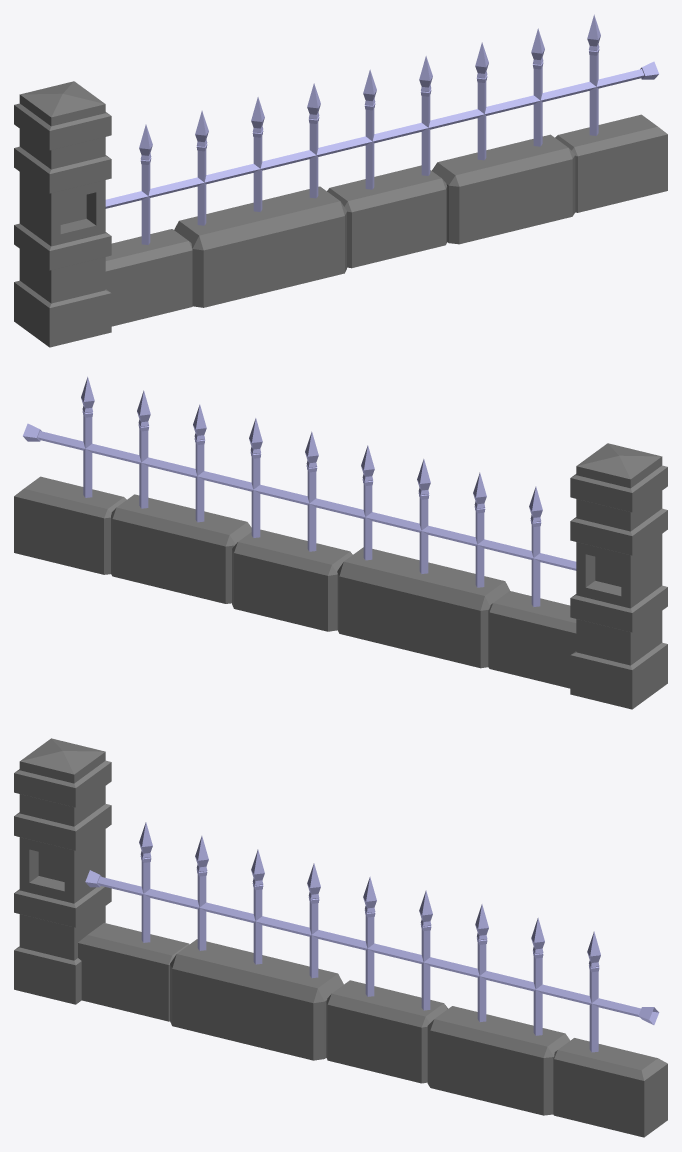
The model's file is SM_Fence_09.fbx.
The picture shows the model from 3 angles, top to bottom: view 1: azimuth 30°, elevation 25°; view 2: azimuth 150°, elevation 25°; view 3: azimuth 330°, elevation 25°; orthographic projection.
Parts seen in each view (by area): view 1: Object024; view 2: Object024; view 3: Object024.
Boxes of the visible parts, x1,y1,x2,y2 form: Object024: (14, 14, 667, 347); Object024: (14, 376, 667, 709); Object024: (14, 738, 667, 1137).
Bounding box in the file's own units: 303 × 108 × 30.
